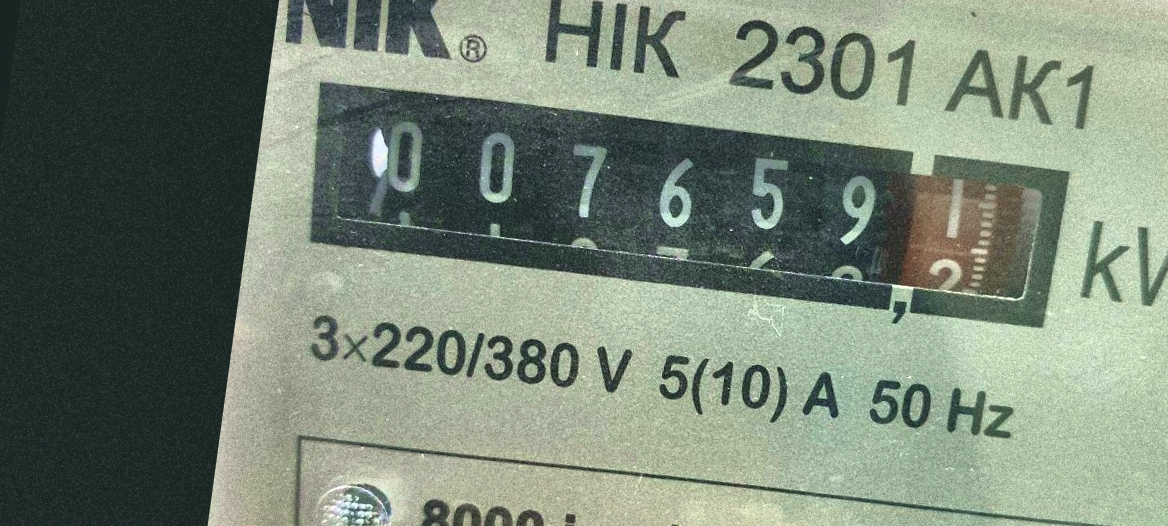0: (461, 119, 528, 212), (373, 108, 435, 204)
1: (934, 169, 978, 248)
5: (738, 148, 794, 236)
6: (644, 145, 706, 234)
7: (558, 135, 611, 225)
9: (829, 164, 882, 257)
screen: (276, 46, 1091, 365)
